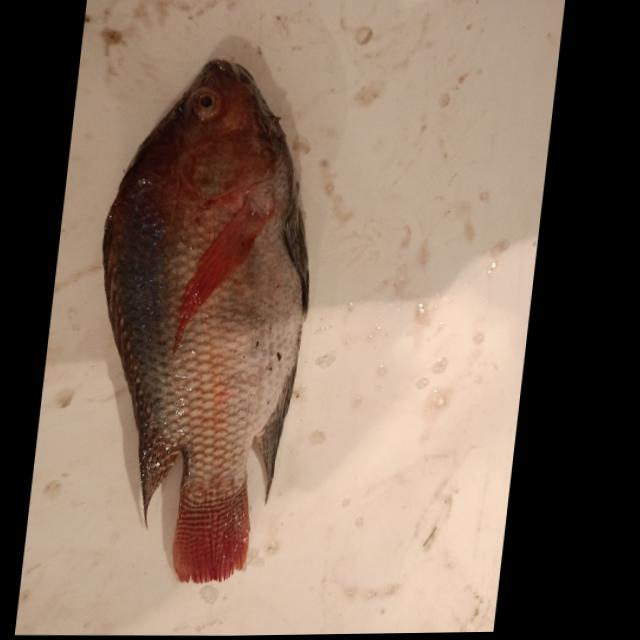Tilapia: (61, 50, 337, 586)
